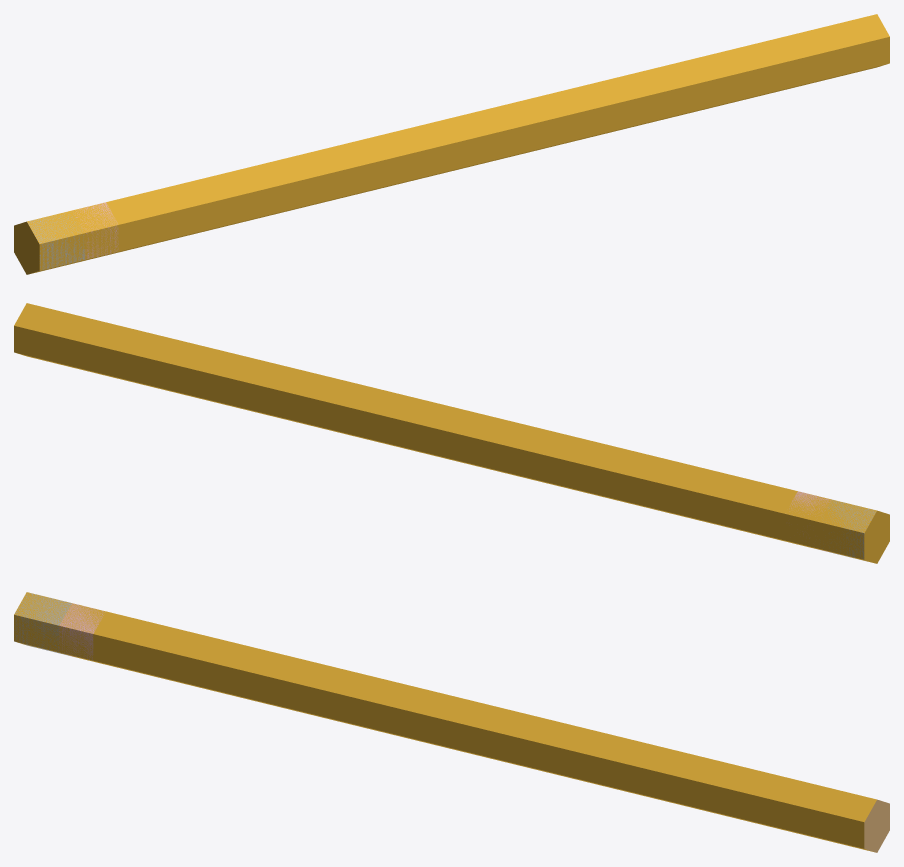
File: pencil.glb
3 views of the same model, one above another, from view 1: azimuth 30°, elevation 25°; view 2: azimuth 150°, elevation 25°; view 3: azimuth 330°, elevation 25° (orthographic).
Parts seen in each view (by area): view 1: Pencil; view 2: Pencil; view 3: Pencil.
Part boxes in pixels (x1,y1,x2,y2): Pencil: (14, 14, 889, 274); Pencil: (14, 303, 889, 563); Pencil: (14, 592, 889, 852).
Bounding box in the file's own units: 0.15 × 0.009 × 0.00779.
1 material, 1 textured.
